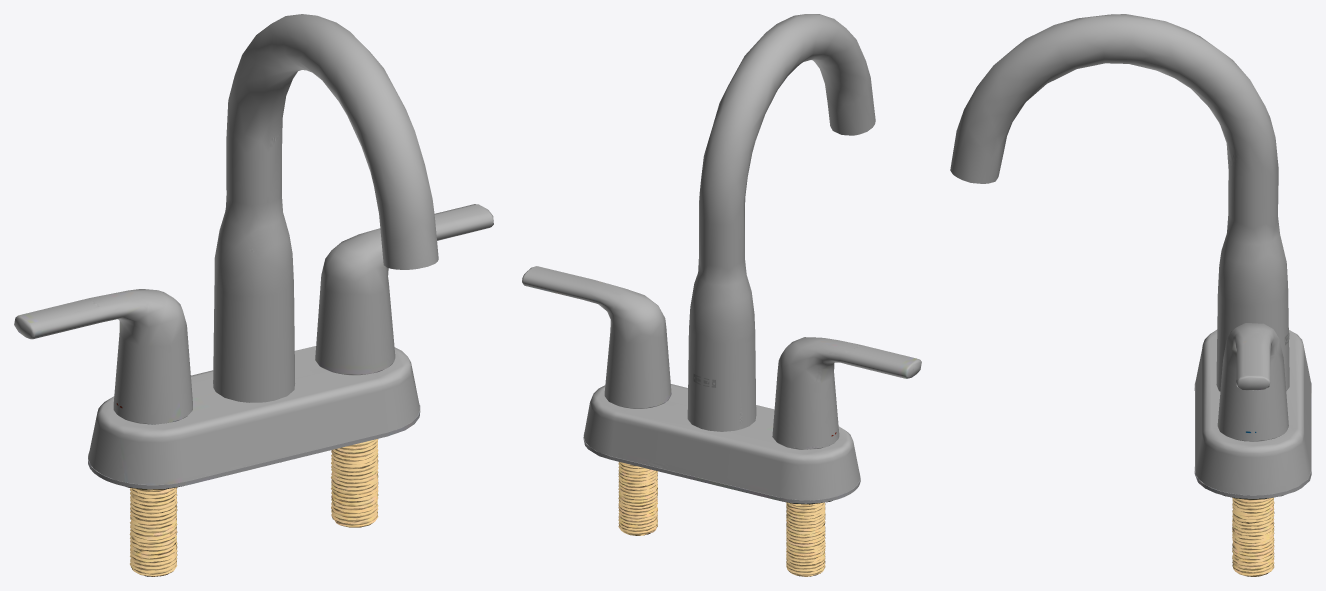
Rendered from macksjoen_centerset_sink_faucet_chrome_p.glb.
3 renders of one model, left to right at view 1: azimuth 30°, elevation 25°; view 2: azimuth 150°, elevation 25°; view 3: azimuth 270°, elevation 25°, orthographic. The views are drawn at different scales.
Parts seen in each view (by area): view 1: ASY_ART_00600832_S01_NV01; view 2: ASY_ART_00600832_S01_NV01; view 3: ASY_ART_00600832_S01_NV01.
Part boxes in pixels (box(x1,y1,x2,y2)): ASY_ART_00600832_S01_NV01: box(14, 14, 493, 576); ASY_ART_00600832_S01_NV01: box(522, 14, 921, 576); ASY_ART_00600832_S01_NV01: box(950, 14, 1311, 576).
Size of the model in its own units: 0.2362 by 0.2765 by 0.1779.
2 materials, 2 textured.
